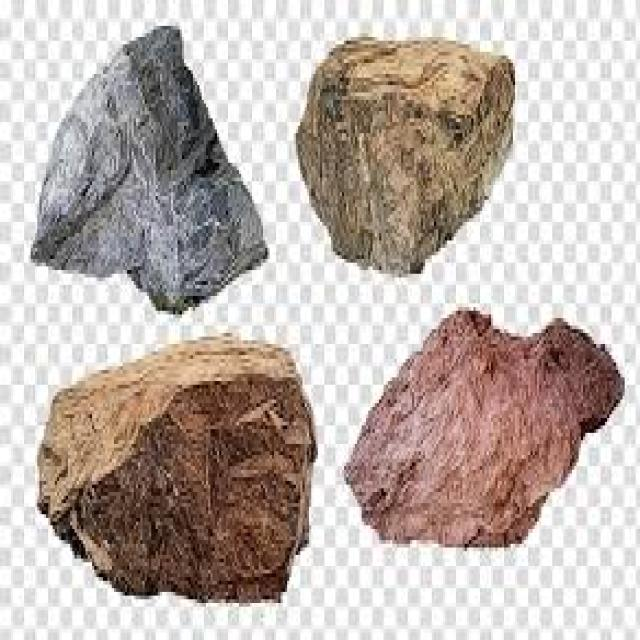Metamorphic: (33, 333, 309, 607), (22, 19, 270, 304), (344, 304, 627, 548), (296, 30, 515, 270)
